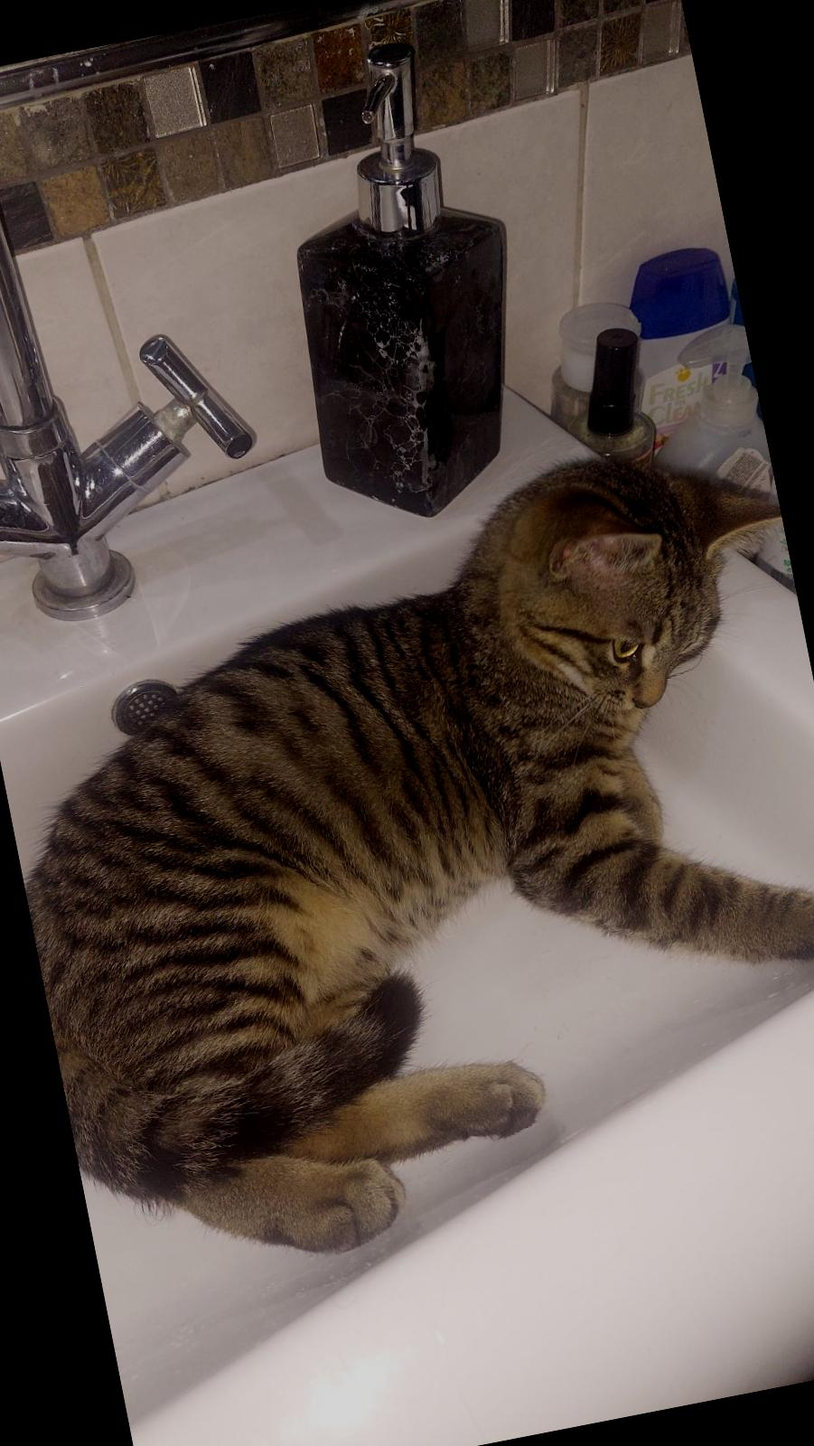macka: (0, 425, 814, 1302)
